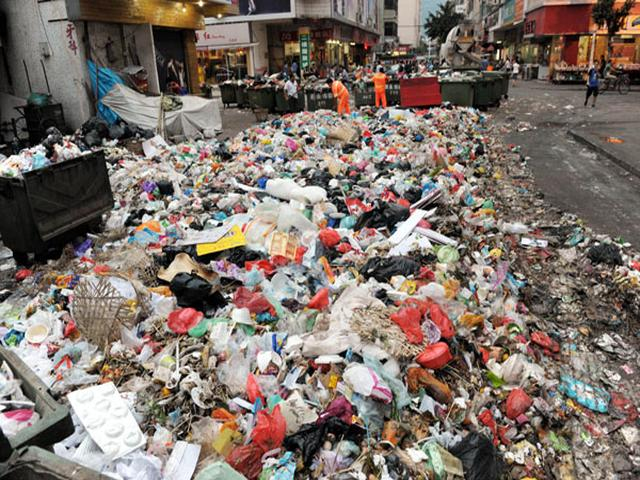garbage: (135, 157, 503, 463), (18, 270, 133, 461), (260, 119, 480, 172)
